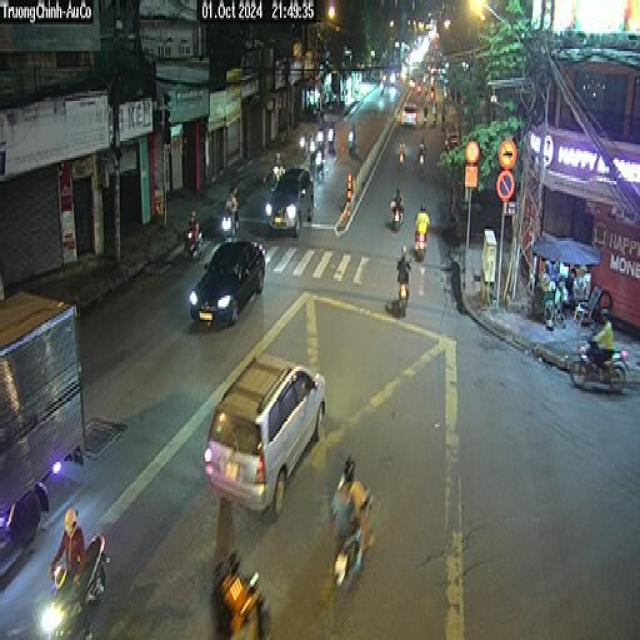car: (202, 353, 326, 520), (187, 238, 265, 326), (264, 164, 314, 236), (400, 102, 418, 127)
motorcycle: (34, 531, 110, 638), (209, 549, 270, 638), (331, 494, 374, 594), (569, 338, 629, 393), (184, 227, 202, 260), (388, 195, 404, 229), (412, 229, 428, 260)
person: (330, 454, 374, 564), (588, 306, 614, 366), (395, 244, 411, 300), (414, 202, 430, 249), (186, 209, 200, 251)
truck: (0, 282, 89, 574)
